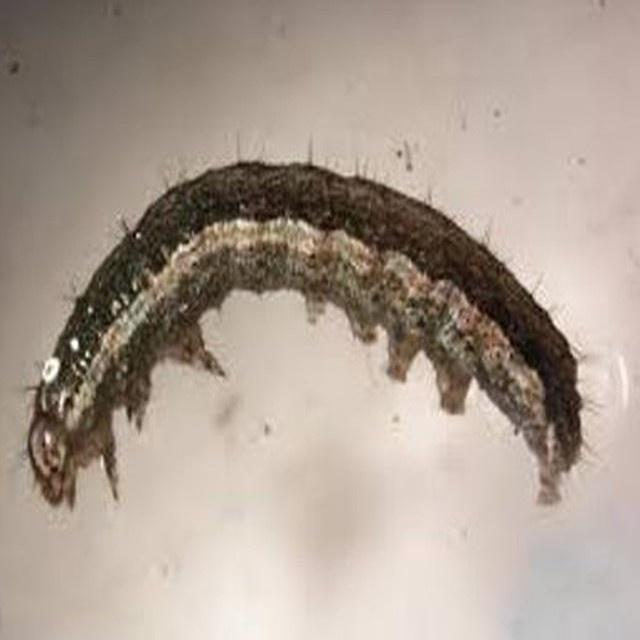gusano_cogollero: (34, 160, 582, 508)
